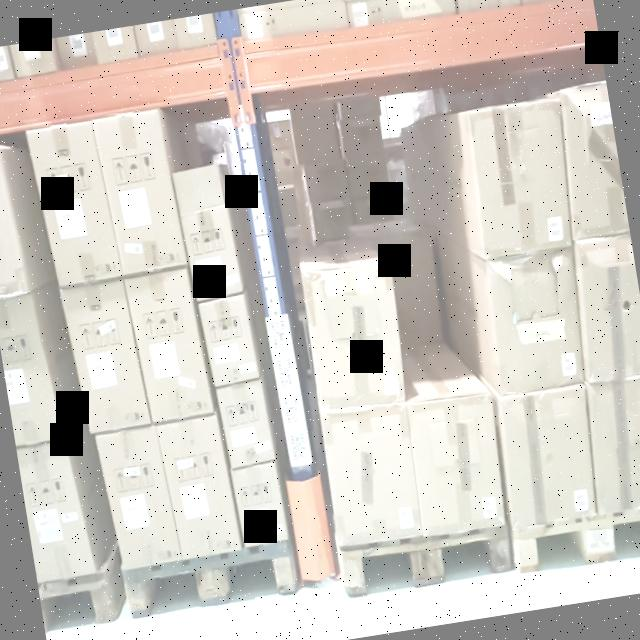box: (463, 106, 580, 255), (300, 258, 408, 406), (26, 124, 120, 287), (483, 256, 591, 394), (498, 390, 596, 532), (322, 405, 419, 546), (409, 392, 506, 532), (100, 111, 180, 274), (132, 270, 212, 422), (64, 284, 144, 428), (159, 420, 241, 552), (100, 429, 178, 564), (180, 208, 242, 301), (200, 296, 258, 392), (221, 379, 274, 467), (234, 469, 289, 542)
